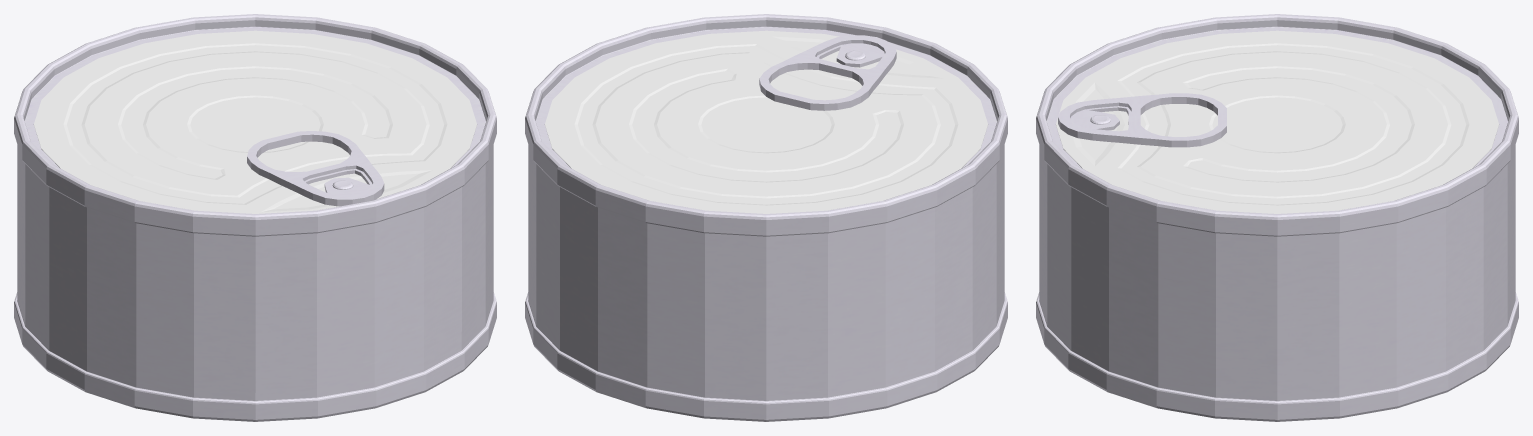
The model's file is tin-can.obj.
3 renders of one model, left to right at view 1: azimuth 30°, elevation 25°; view 2: azimuth 150°, elevation 25°; view 3: azimuth 270°, elevation 25°, orthographic.
Parts seen in each view (by area): view 1: tin-can-009; view 2: tin-can-009; view 3: tin-can-009.
Part boxes in pixels (x1=…): tin-can-009: x1=14, y1=14, x2=496, y2=421; tin-can-009: x1=525, y1=14, x2=1007, y2=421; tin-can-009: x1=1036, y1=14, x2=1518, y2=421.
Bounding box in the file's own units: 0.0805 × 0.038 × 0.0805.
Materials: 1 (1 with a texture image).
